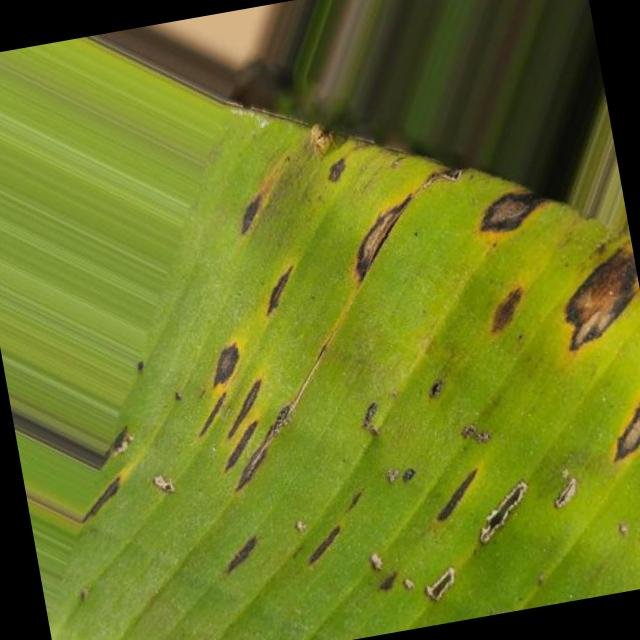Banana_Yellow_Sigatoka: (165, 76, 640, 518)
